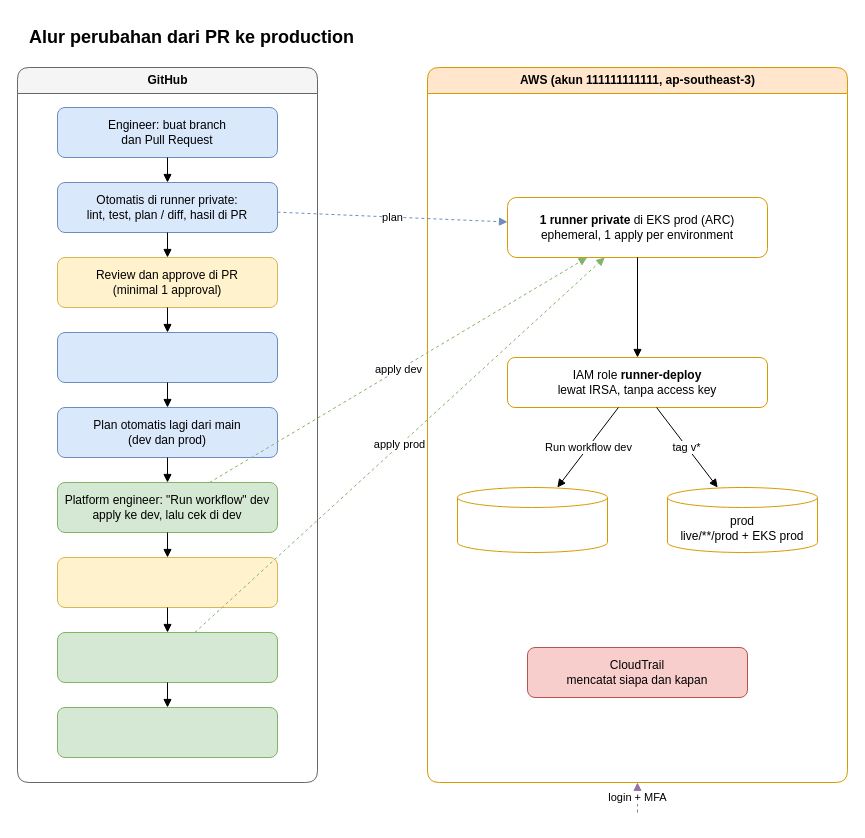
The diagram is 865 pixels wide and 838 high, and some of its shapes have lost their labels. Here are the shapes that lost their labels. From the top down, the centre of each, then its label:
(x=167, y=357): Merge ke main (branch protection)
(x=532, y=519): dev live/**/dev + EKS dev
(x=167, y=582): Platform engineer membuat release tag v* (tag protection)
(x=167, y=657): Apply ke prod dari tag
(x=167, y=732): Cek kesehatan: plan "No changes" / kubectl rollout status
